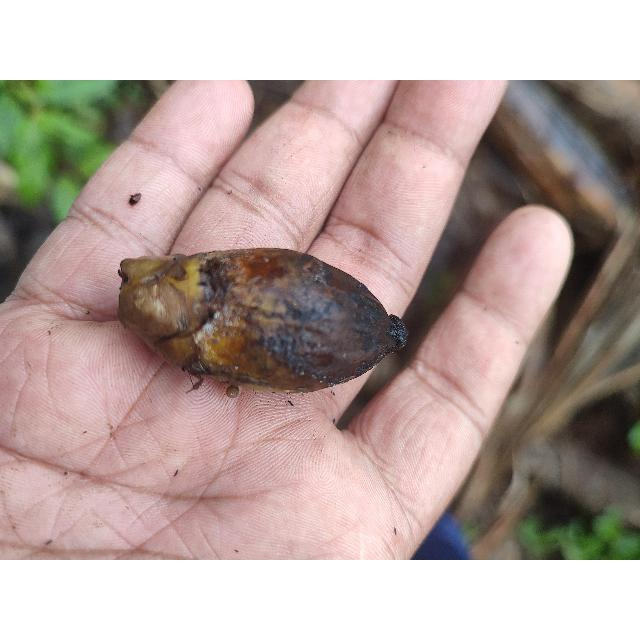damaged: (116, 247, 408, 395)
